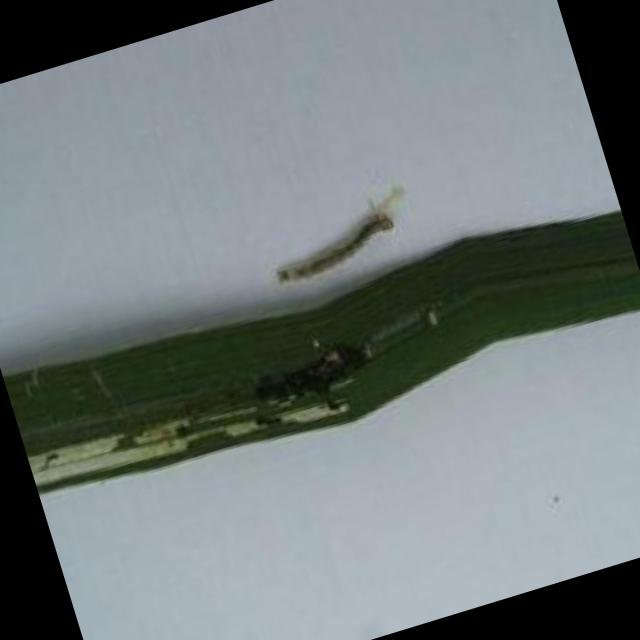leaf-folder: (252, 190, 417, 306)
